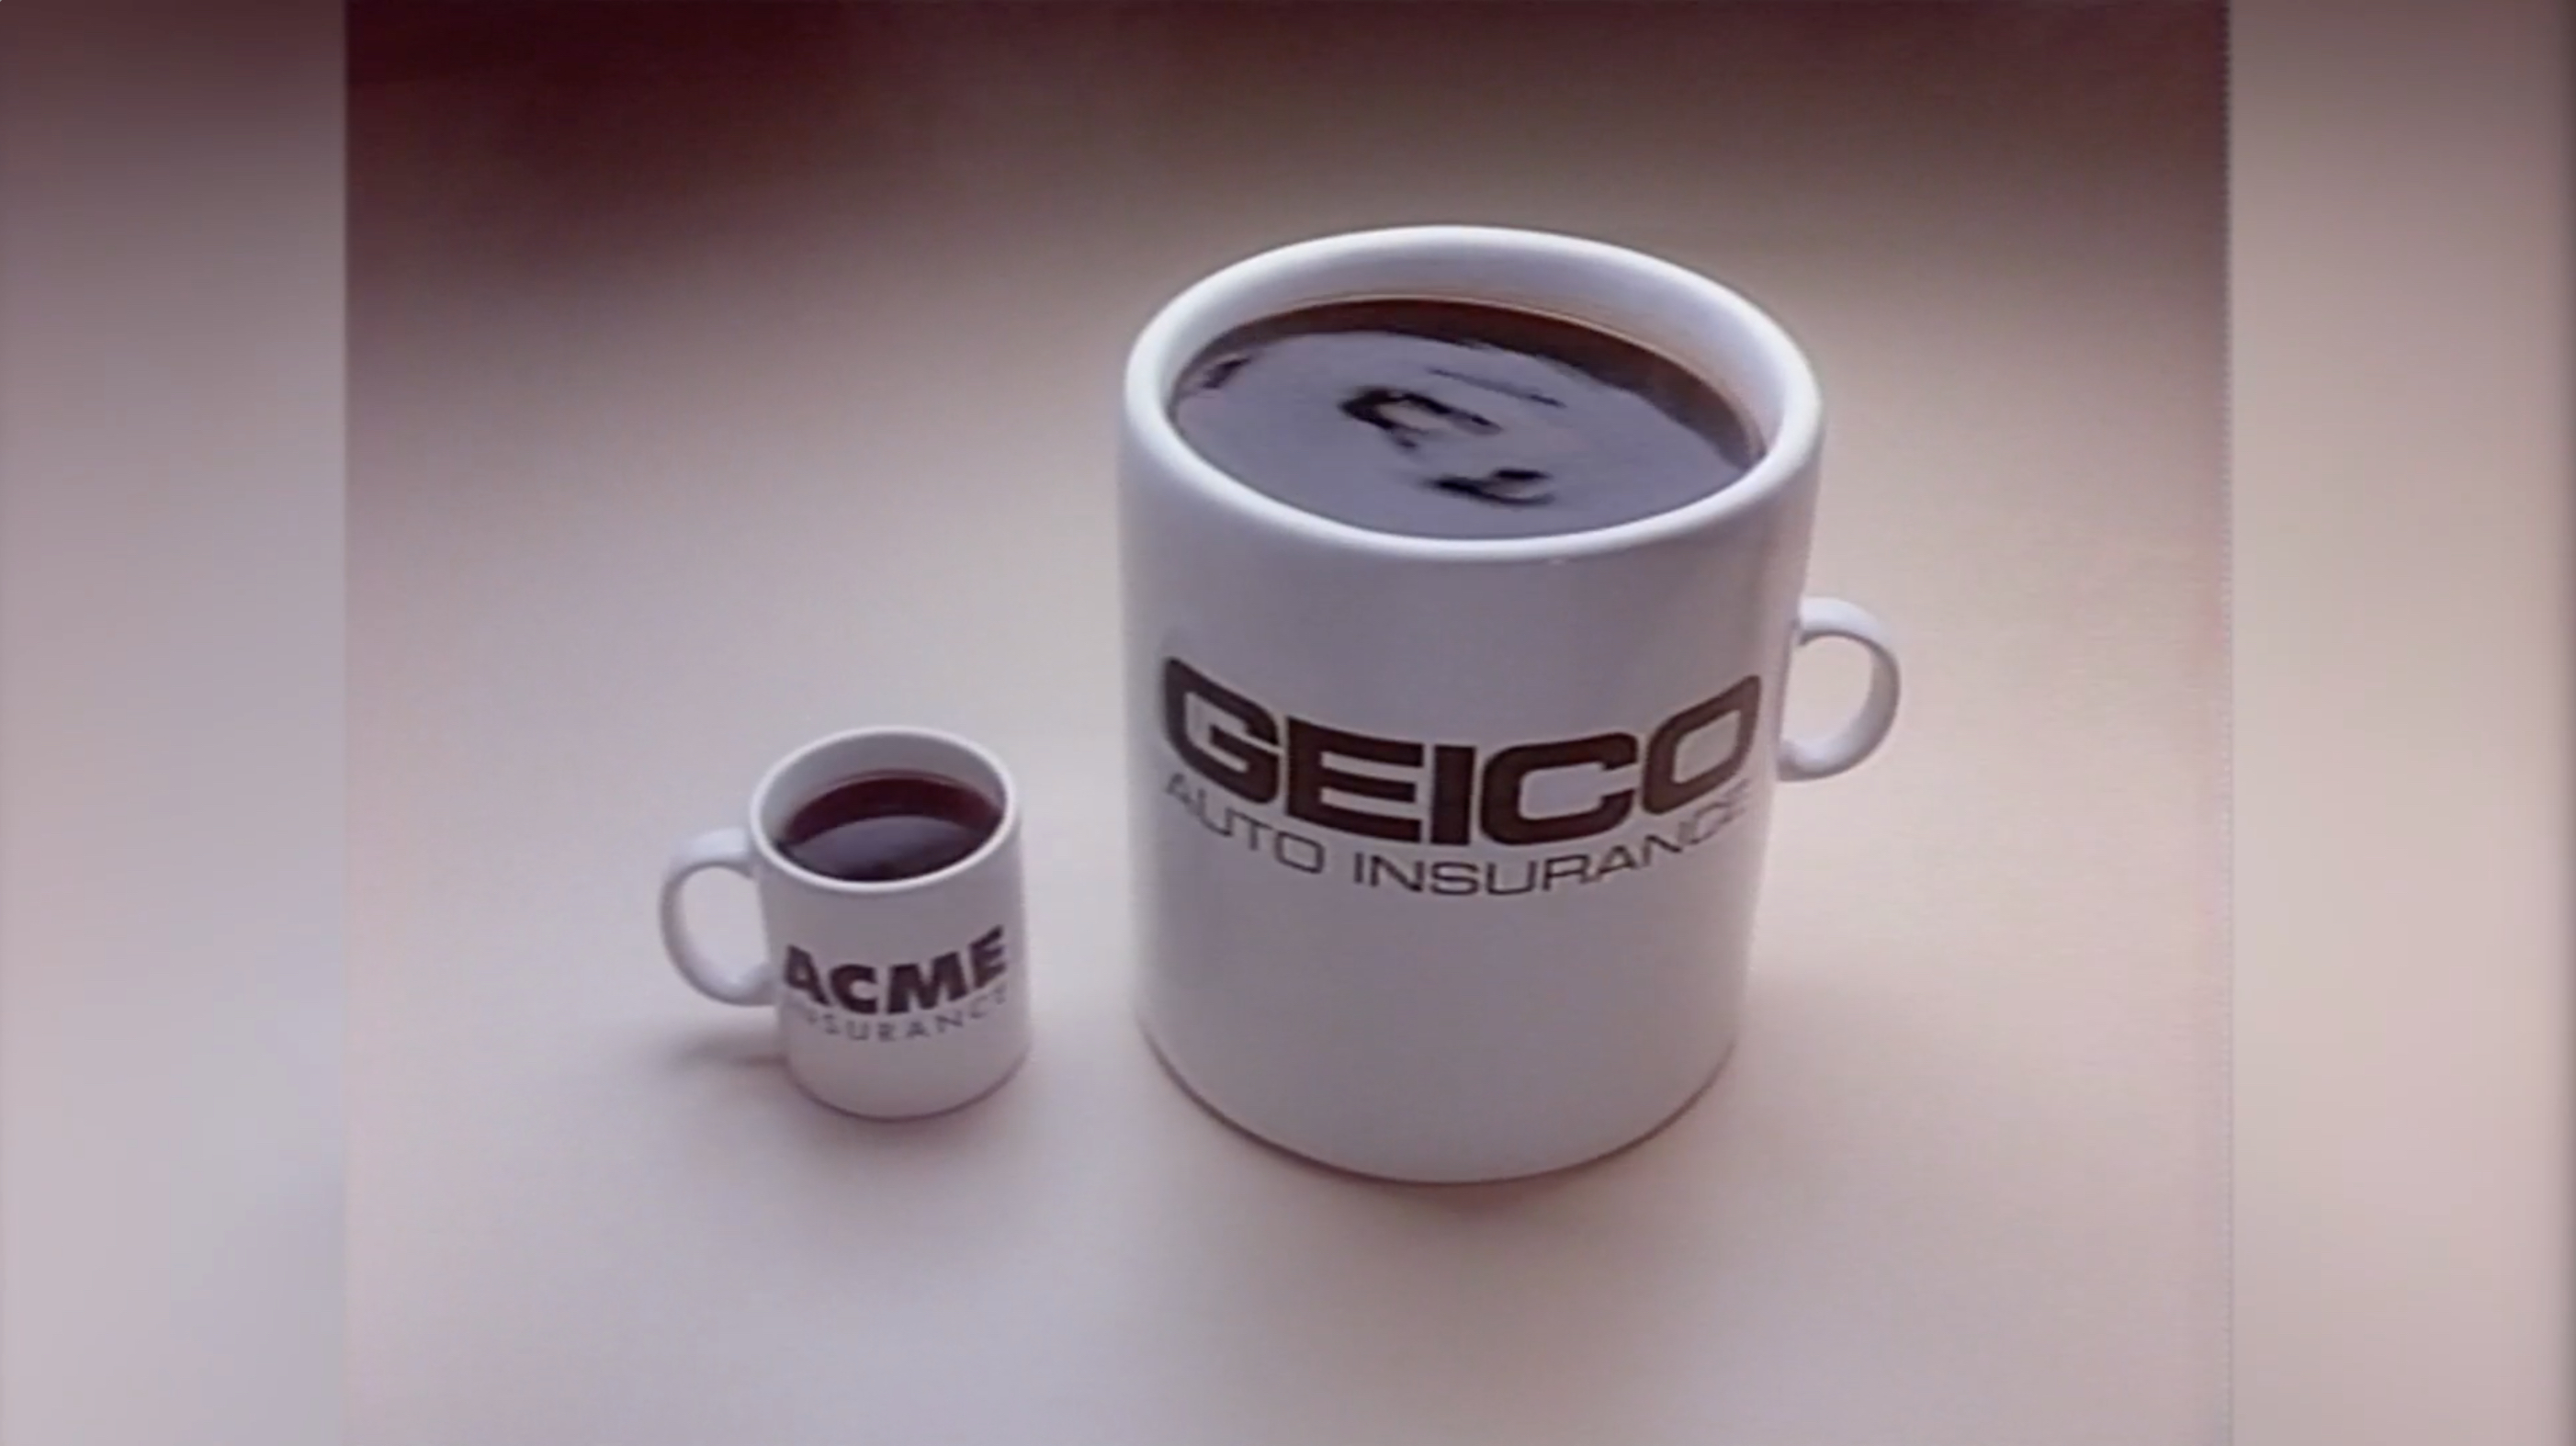Geico: (1154, 635, 1796, 910)
